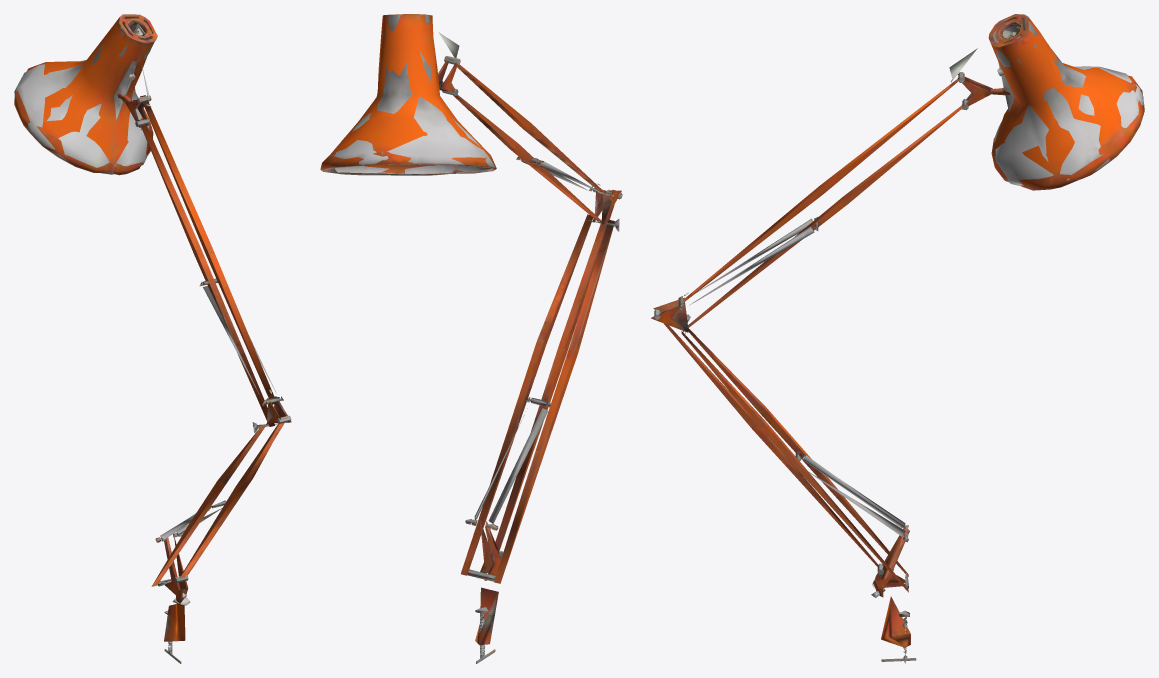
File: cc0_desk_lamp.glb
3 renders of one model, left to right at view 1: azimuth 30°, elevation 25°; view 2: azimuth 150°, elevation 25°; view 3: azimuth 270°, elevation 25°, orthographic. The views are drawn at different scales.
Visible parts, largest first — view 1: desk_lamp_arm_01; view 2: desk_lamp_arm_01; view 3: desk_lamp_arm_01.
Boxes of the visible parts, x1,y1,x2,y2 form: desk_lamp_arm_01: (14,14,291,663); desk_lamp_arm_01: (320,14,622,663); desk_lamp_arm_01: (651,14,1144,663).
Size of the model in its own units: 0.2018 by 0.8926 by 0.6132.
Materials: 2 (2 with a texture image).
